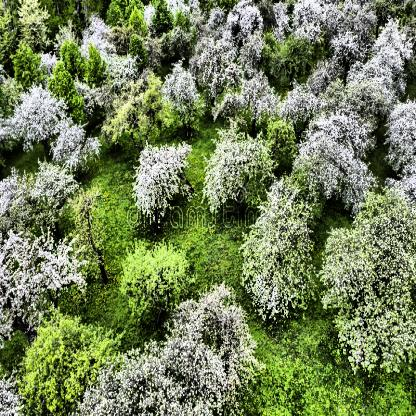tree-top: (328, 218, 414, 364), (8, 312, 110, 414), (171, 278, 254, 403), (246, 181, 312, 317), (0, 236, 80, 336), (92, 353, 204, 416), (302, 116, 371, 204), (201, 129, 263, 213), (130, 141, 188, 227), (128, 246, 188, 314), (31, 156, 77, 238), (109, 80, 170, 139), (348, 56, 396, 116), (380, 103, 416, 179), (266, 31, 316, 81), (198, 36, 241, 94), (13, 87, 63, 135), (0, 170, 33, 236), (164, 63, 204, 117), (54, 121, 95, 173), (389, 98, 416, 171), (281, 76, 315, 132), (241, 68, 274, 125), (229, 0, 265, 38), (19, 0, 47, 46), (55, 71, 84, 112), (331, 32, 361, 69), (306, 61, 336, 96), (12, 48, 38, 88), (82, 46, 106, 89), (74, 185, 102, 220), (153, 0, 179, 34), (127, 33, 152, 65), (63, 39, 84, 72), (126, 7, 150, 32), (36, 48, 54, 74)
